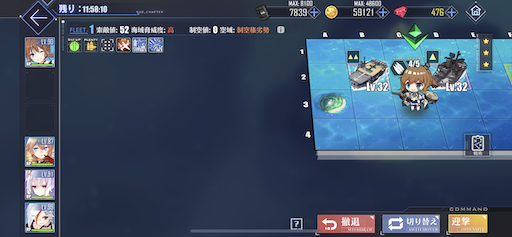lv1: (426, 46, 472, 93)
lv2: (345, 49, 389, 93)
